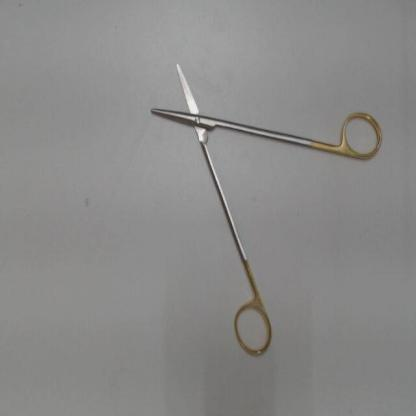7 Metzenbaum Scissors: (148, 56, 385, 360)
